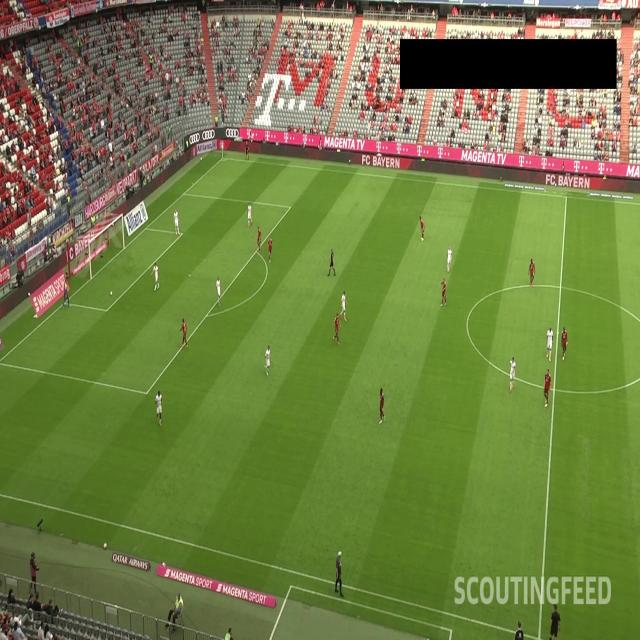ball: (109, 288, 114, 300)
player: (376, 385, 388, 425), (177, 314, 189, 351), (153, 389, 164, 428), (559, 324, 570, 362), (542, 367, 552, 408), (525, 255, 536, 288), (508, 354, 516, 394), (545, 324, 553, 364), (150, 261, 161, 290), (339, 288, 348, 323), (215, 275, 224, 309), (332, 312, 341, 344), (264, 343, 272, 377), (440, 273, 448, 307), (62, 280, 71, 310), (172, 207, 181, 236), (418, 213, 426, 244), (266, 235, 274, 264), (446, 246, 454, 274), (256, 223, 263, 253), (246, 202, 252, 230)
referee: (548, 598, 560, 640), (328, 246, 336, 278), (245, 139, 250, 161)
